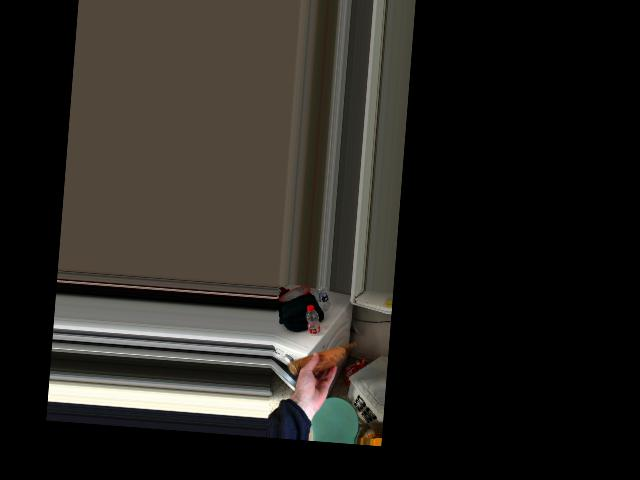sweet_potato: (291, 341, 340, 377)
